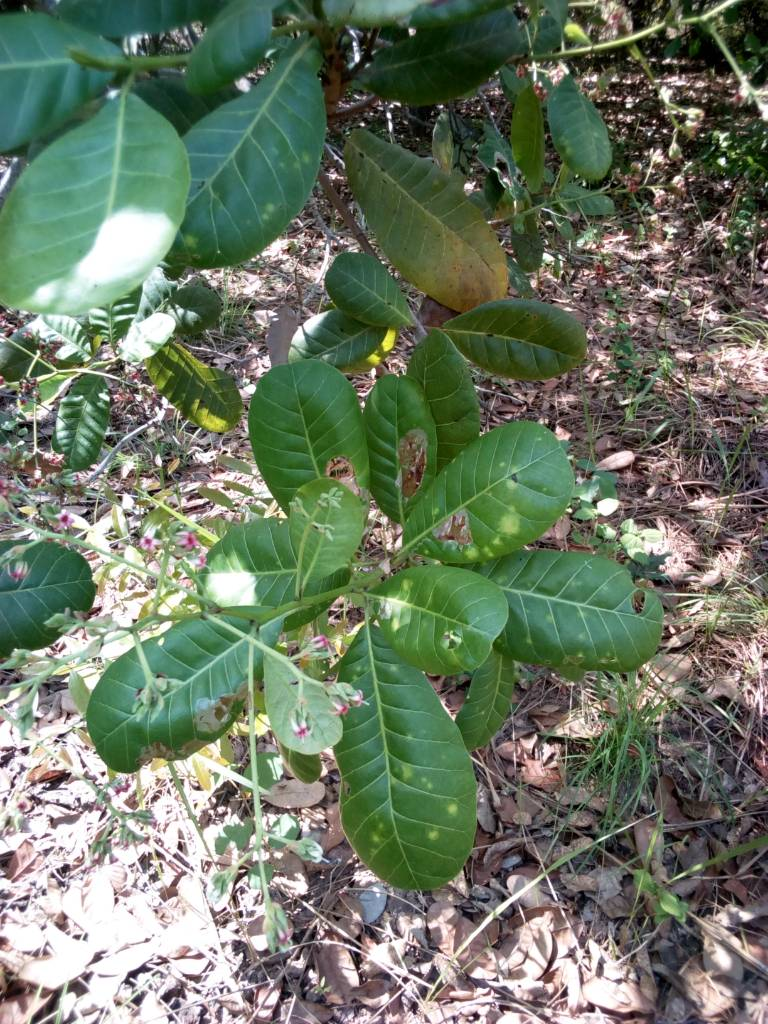Dysdercus wolkerii: (407, 414, 569, 572), (240, 353, 368, 527), (360, 371, 446, 521)
